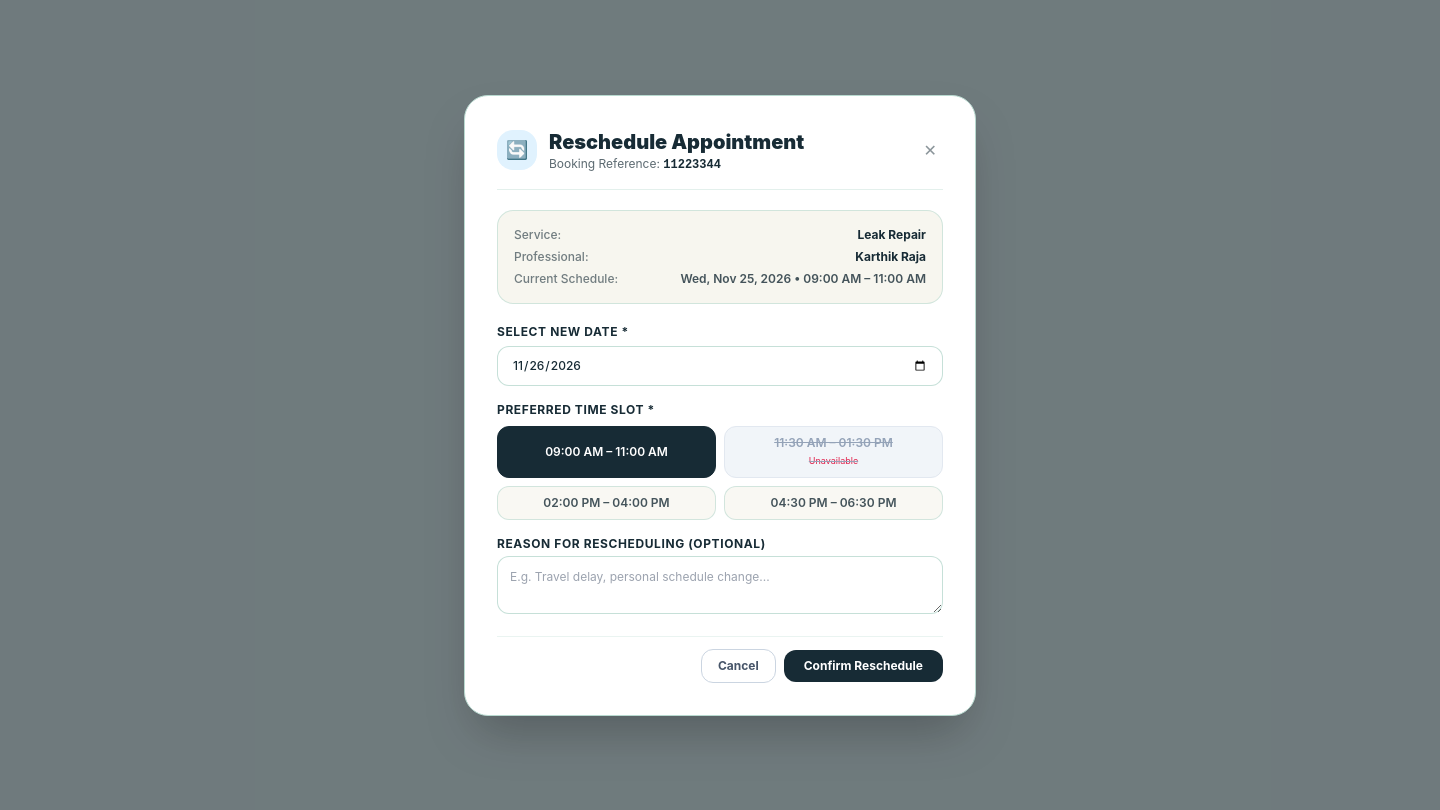
Scenario: RescheduleModal Component › handles 409 conflict: displays error message and refreshes provider availability
Click the button "Confirm Reschedule" at (863,666), box [784,650,943,682]
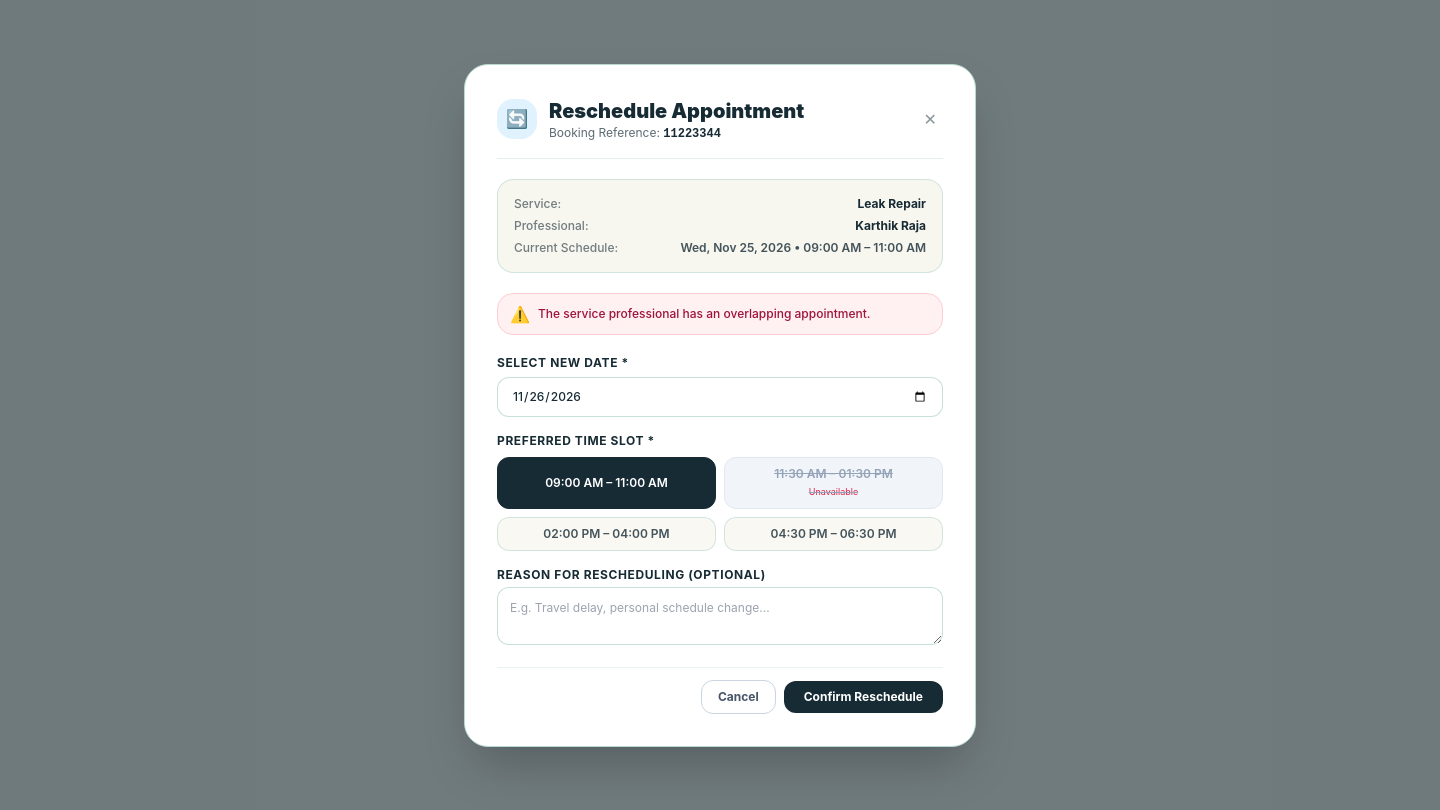
Expected: the text "The service professional has an overlapping appointment." is shown, [538,306,870,320]
